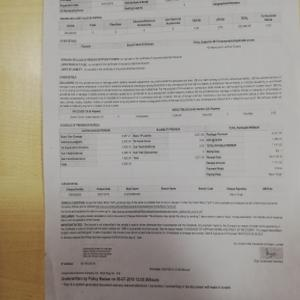table: (61, 126, 282, 178), (57, 14, 283, 33)
text: (61, 202, 285, 239), (57, 73, 283, 106), (57, 56, 184, 71)
